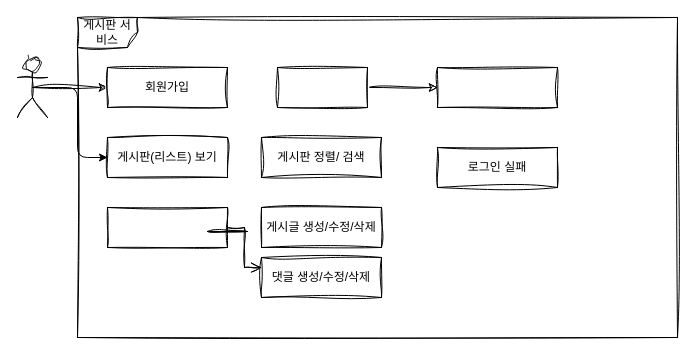
Image size: 695x355. Some labels were removed from this diagram. The box of each missing label's shape, as (x1, y1, x2, y2) in pixels:
Actor: (16, 56, 48, 118)
게시글(단건) 보기: (106, 206, 228, 248)
로그인: (276, 66, 368, 108)
인증: (436, 66, 558, 108)
